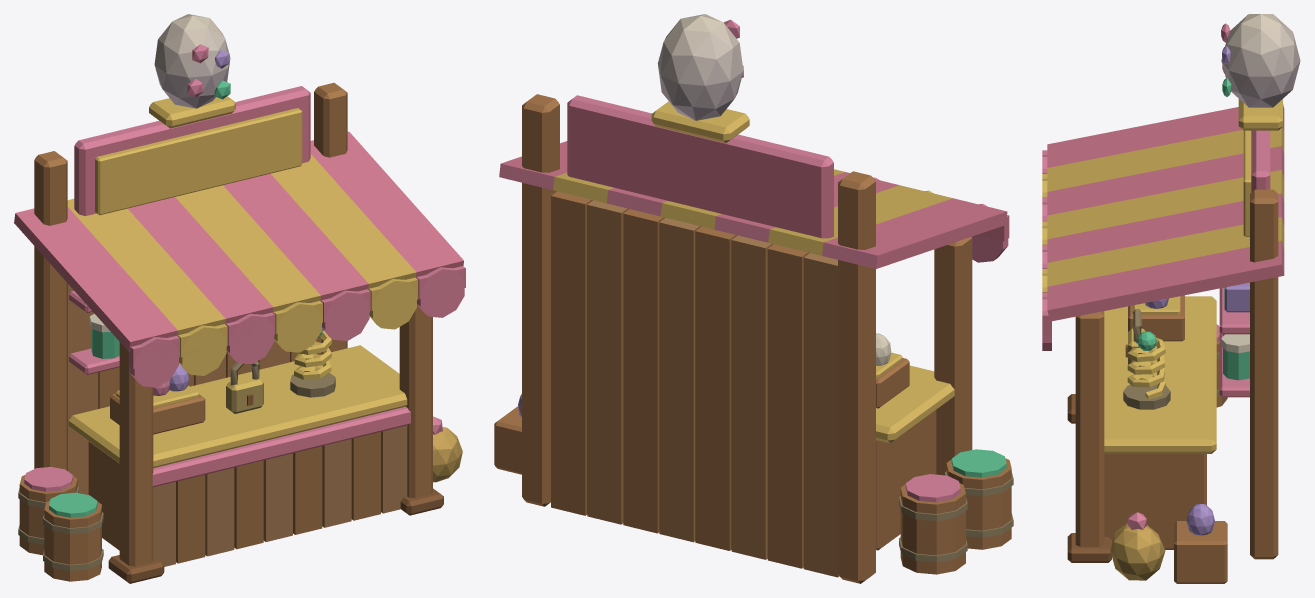
File: ranch_item_shop.fbx
The picture shows the model from 3 angles, left to right: view 1: azimuth 30°, elevation 25°; view 2: azimuth 150°, elevation 25°; view 3: azimuth 270°, elevation 25°; orthographic projection. The views are drawn at different scales.
Parts seen in each view (by area): view 1: ranch_item_shop; view 2: ranch_item_shop; view 3: ranch_item_shop.
Part boxes in pixels (left/top/right/bottom): ranch_item_shop: left=14, top=14, right=465, bottom=583; ranch_item_shop: left=494, top=14, right=1013, bottom=583; ranch_item_shop: left=1042, top=14, right=1300, bottom=583.
Size of the model in its own units: 15.39 by 16.56 by 8.15.
